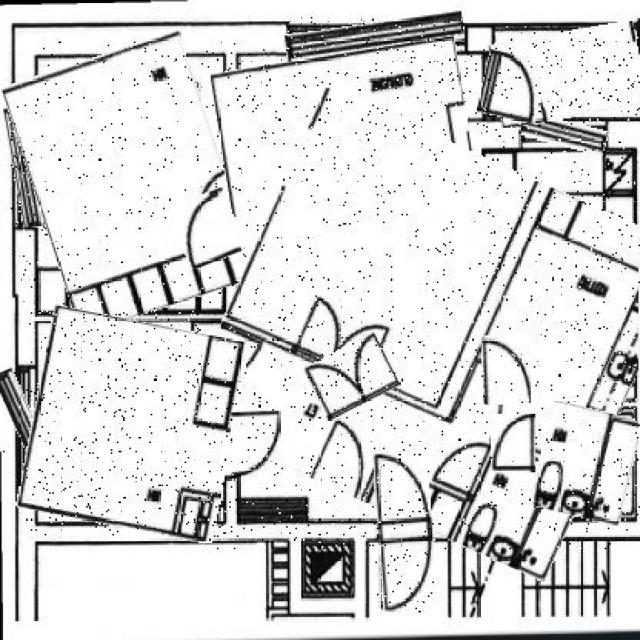door: (206, 120, 640, 549), (224, 44, 496, 410), (20, 42, 240, 323), (25, 312, 242, 536), (491, 26, 640, 122), (534, 404, 638, 522)
window: (376, 452, 436, 614), (308, 340, 395, 414), (172, 191, 242, 266), (480, 52, 545, 121), (483, 337, 531, 405), (232, 412, 280, 471), (491, 414, 535, 472)
zone: (286, 17, 465, 58), (3, 366, 48, 485), (9, 106, 42, 228), (520, 117, 606, 151)
